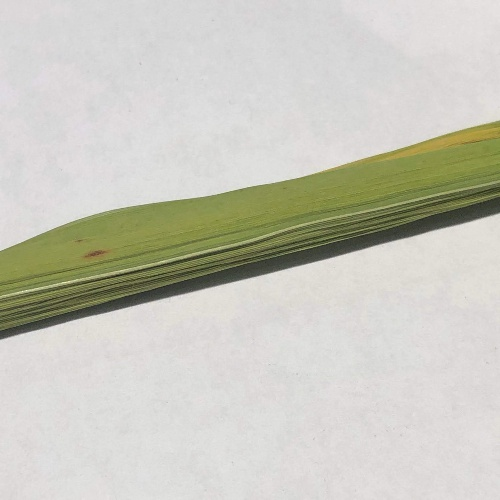Bercak Coklat: (82, 246, 114, 261)
